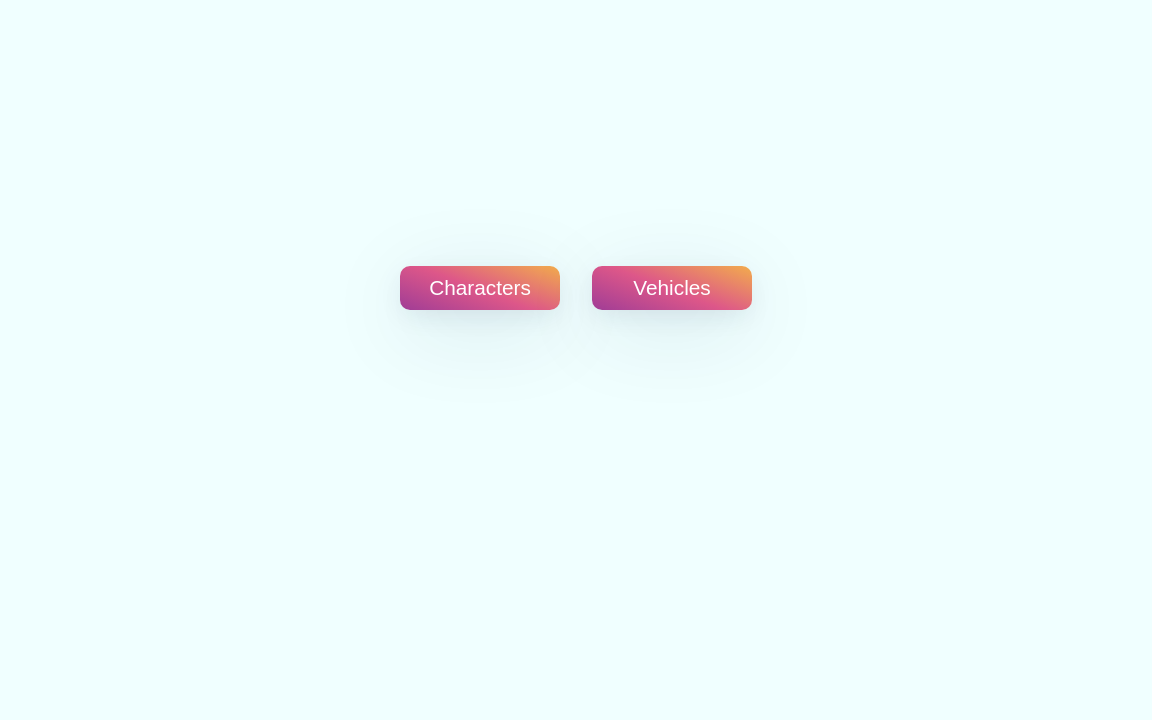
Test: /vehicles page fetches vehicles on mount
Step 1. Click the button "Vehicles" → [672, 288], box left=592, top=266, right=752, bottom=310
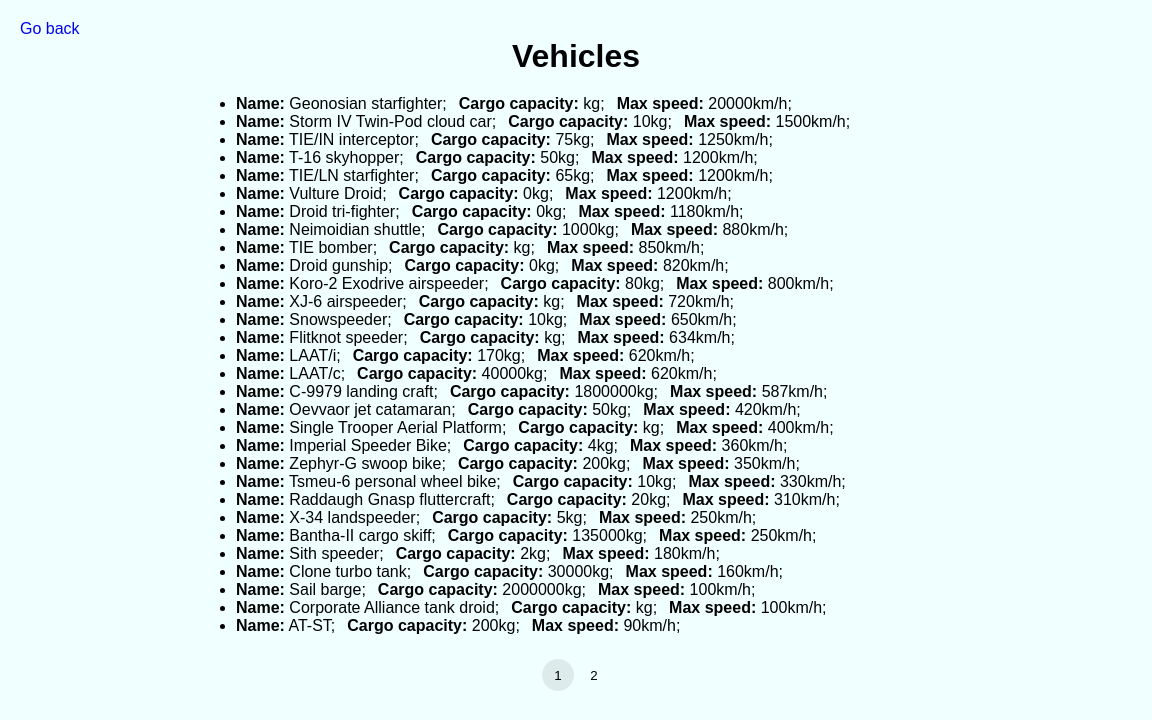
Expected: the heading "Vehicles" is shown, left=512, top=38, right=640, bottom=74
Now the number of list items is 30
